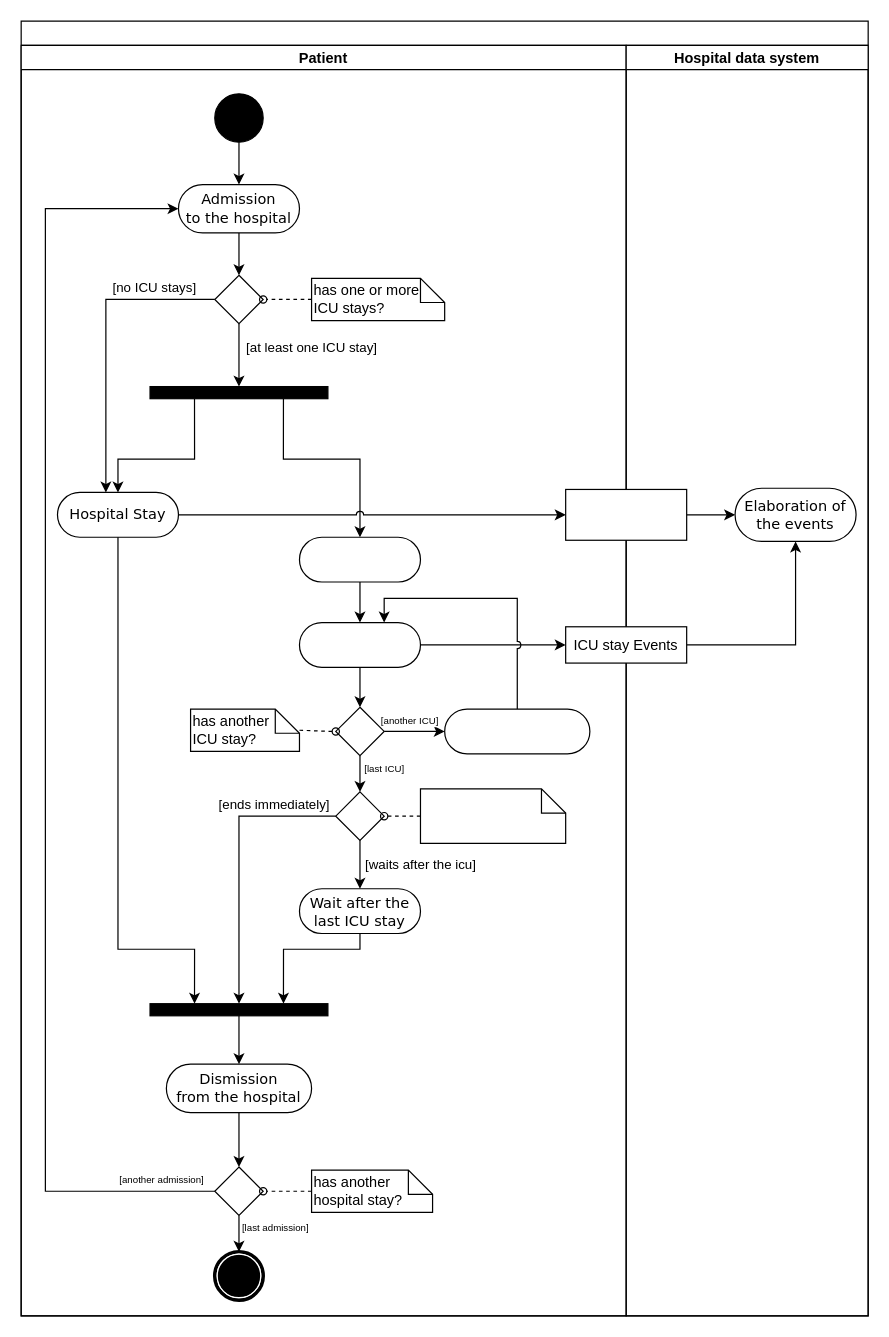
Some shapes in this 889 by 1337 pixel diagram are drawn without their labels. Here are the shapes that lost their labels. From the top down, the box of each, then its label:
(564, 488, 687, 540): Hospital stay events
(298, 536, 420, 582): Wait before the ICU stay
(298, 621, 420, 667): ICU stay
(443, 708, 590, 754): wait time between ICU stays
(419, 788, 566, 843): ends immediately after the ICU stay?
